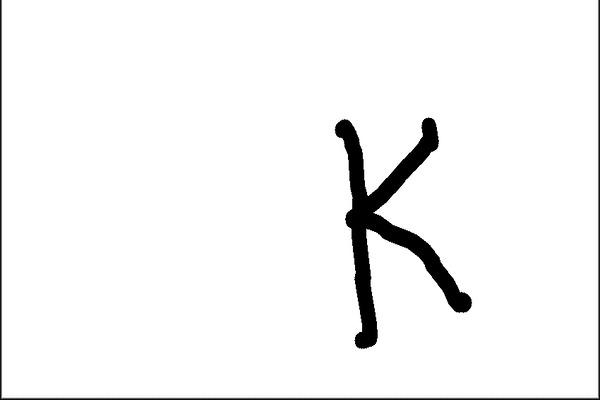K: (327, 110, 474, 353)
